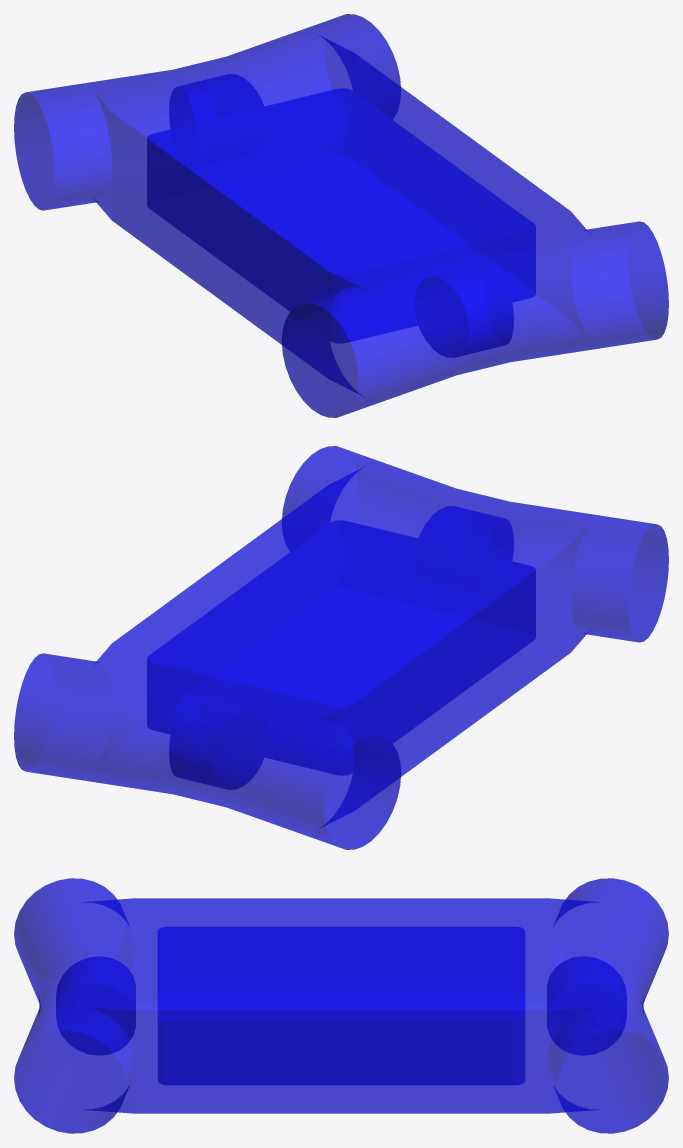
Rendered from soft_body_simplified.obj.
The picture shows the model from 3 angles, top to bottom: view 1: azimuth 30°, elevation 25°; view 2: azimuth 150°, elevation 25°; view 3: azimuth 270°, elevation 25°; orthographic projection. The views are drawn at different scales.
Parts seen in each view (by area): view 1: Solid1; view 2: Solid1; view 3: Solid1.
Part boxes in pixels (<box>): Solid1: <box>14,14,668,417</box>; Solid1: <box>14,446,668,849</box>; Solid1: <box>14,878,668,1133</box>.
Size of the model in its own units: 214 by 64 by 369.
